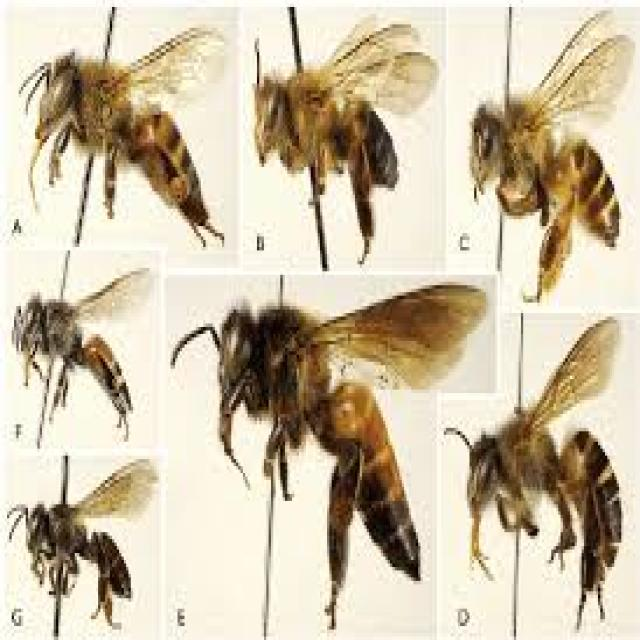Apis-mellifera-scutellata: (208, 272, 480, 595), (240, 2, 454, 284), (22, 3, 230, 256), (444, 329, 640, 591), (460, 36, 630, 300), (15, 464, 180, 630), (20, 261, 143, 427)
